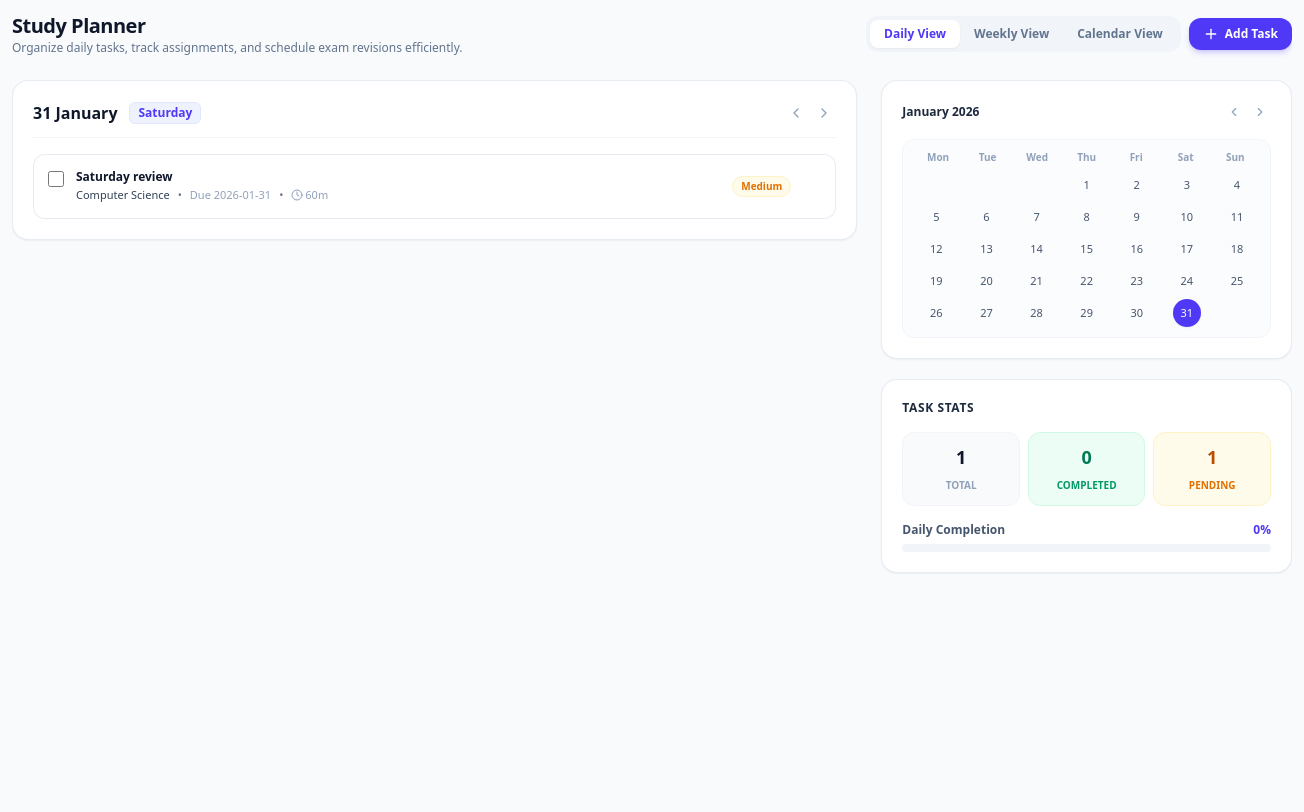
study planner › uses local calendar dates and clamps month navigation at month end
This screenshot has width=1304, height=812.
Expected: the heading "Saturday review" is shown, [76,168,173,185]
Click the button named "Next calendar month".
click(1260, 112)  # box [1249,101,1271,123]
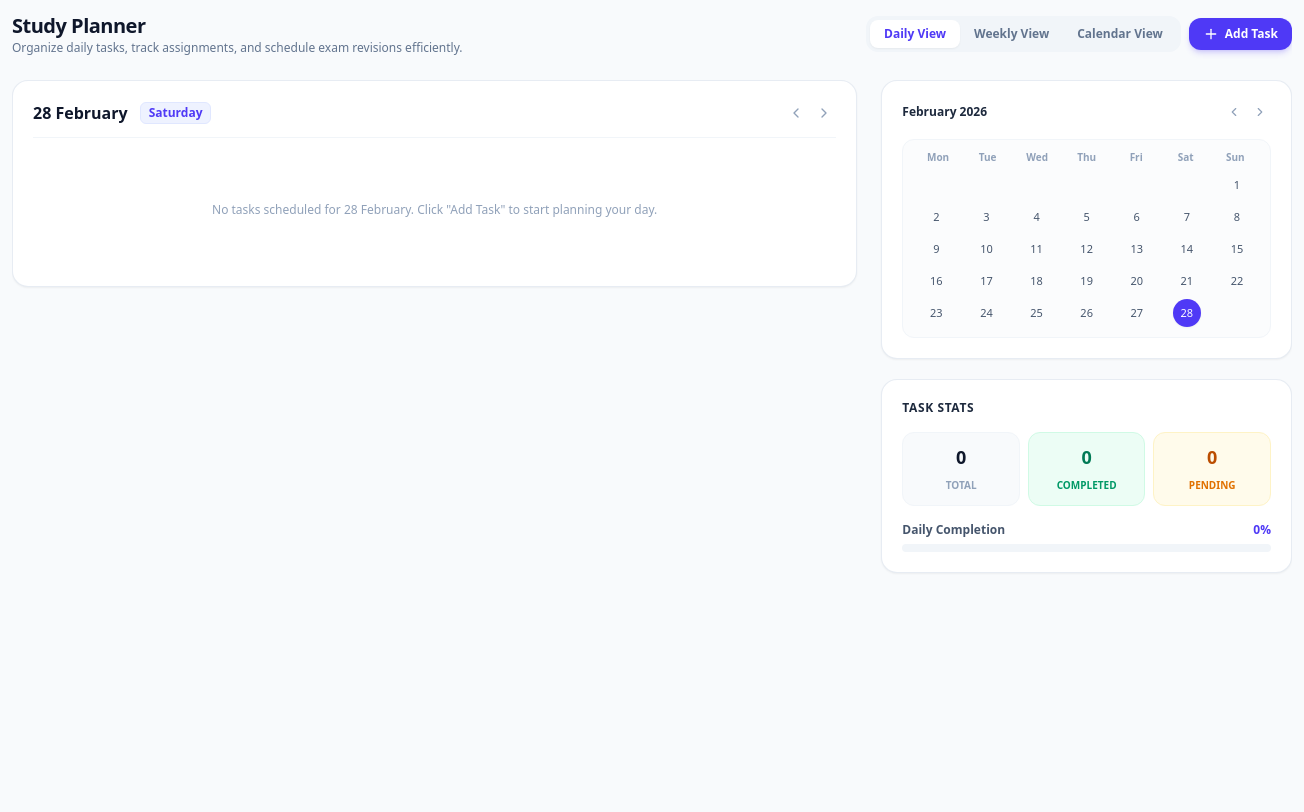
Result: the text "February 2026" is shown at [902,104,987,120]
Result: the text "28 February" is shown at [33,101,128,125]
